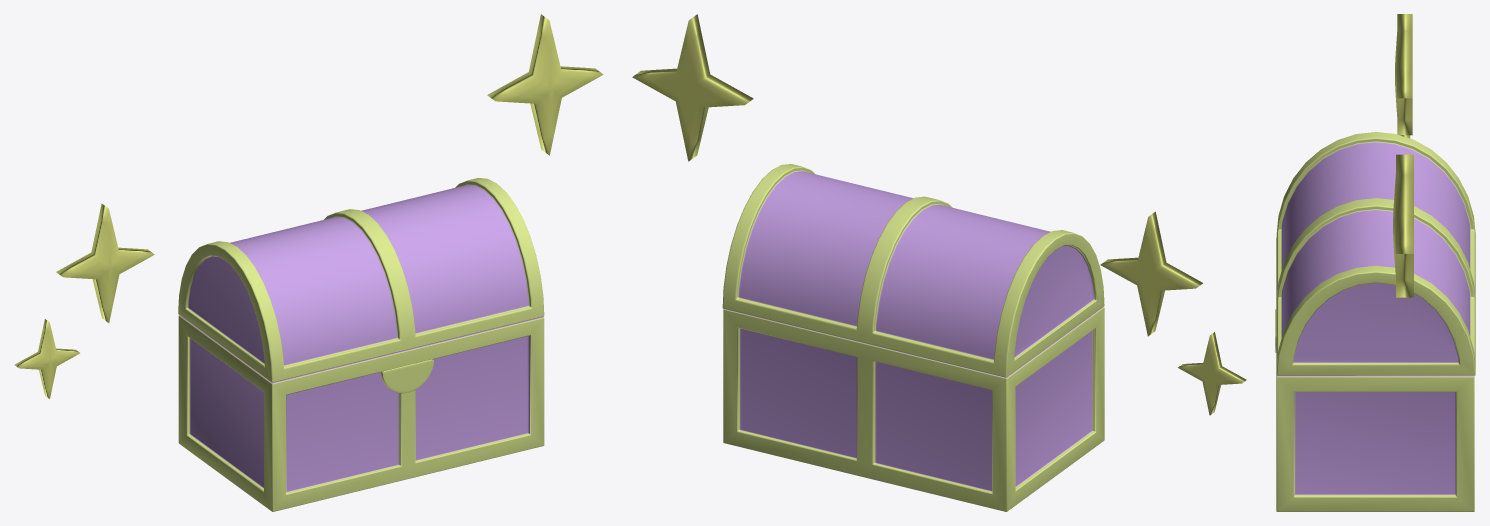
3 views of the same model, side by side, from view 1: azimuth 30°, elevation 25°; view 2: azimuth 150°, elevation 25°; view 3: azimuth 270°, elevation 25° (orthographic). The views are drawn at different scales.
Parts seen in each view (by area): view 1: Cylinder, Cube, Cube.001, Cube.002, Cube.003, Cylinder.001; view 2: Cylinder, Cube, Cube.001, Cube.002, Cube.003; view 3: Cylinder, Cube, Cube.001, Cube.002.
Boxes of the visible parts, bbox=[...] form: Cylinder: bbox=[178, 178, 544, 382]; Cube: bbox=[178, 315, 544, 511]; Cube.001: bbox=[487, 14, 603, 155]; Cube.002: bbox=[56, 203, 154, 322]; Cube.003: bbox=[14, 319, 80, 398]; Cylinder.001: bbox=[380, 359, 433, 393]; Cylinder: bbox=[722, 164, 1104, 377]; Cube: bbox=[723, 306, 1104, 511]; Cube.001: bbox=[632, 14, 753, 161]; Cube.002: bbox=[1100, 211, 1202, 336]; Cube.003: bbox=[1178, 332, 1246, 415]; Cylinder: bbox=[1276, 132, 1475, 375]; Cube: bbox=[1276, 238, 1474, 511]; Cube.001: bbox=[1393, 154, 1413, 297]; Cube.002: bbox=[1395, 14, 1412, 135].
Bounding box in the file's own units: 1.48 × 0.8932 × 0.4167.
